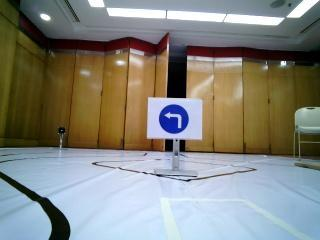left: (146, 97, 201, 137)
